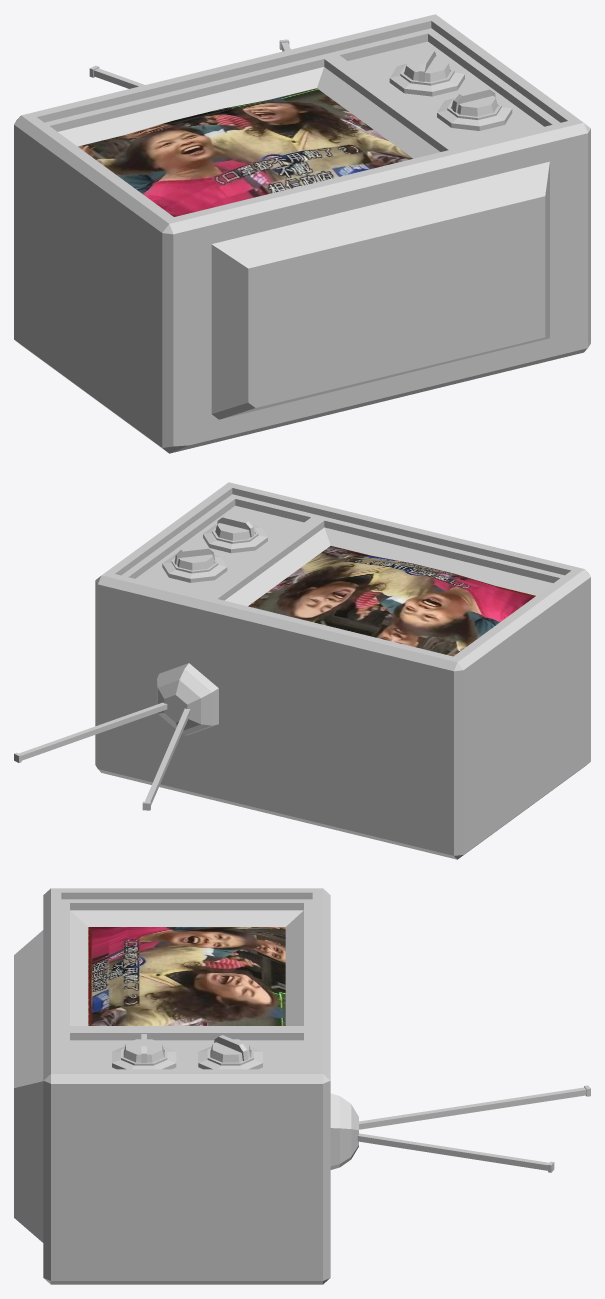
3 renders of one model, top to bottom at view 1: azimuth 30°, elevation 25°; view 2: azimuth 150°, elevation 25°; view 3: azimuth 270°, elevation 25°, orthographic. The views are drawn at different scales.
Parts seen in each view (by area): view 1: TV; view 2: TV; view 3: TV.
Part boxes in pixels (bbox=[...]): TV: bbox=[14, 14, 590, 453]; TV: bbox=[14, 482, 590, 859]; TV: bbox=[14, 888, 590, 1284].
Size of the model in its own units: 70.16 by 37.22 by 89.12.
